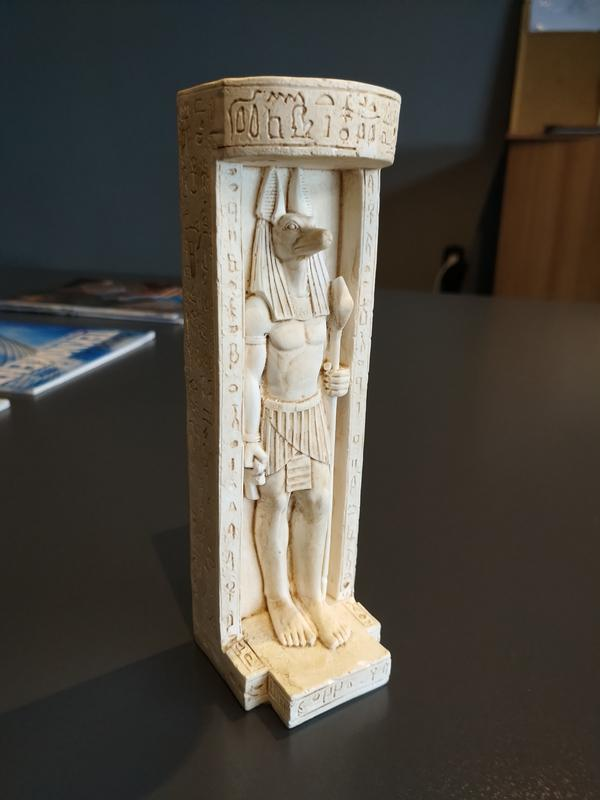heykel: (166, 68, 414, 737)
